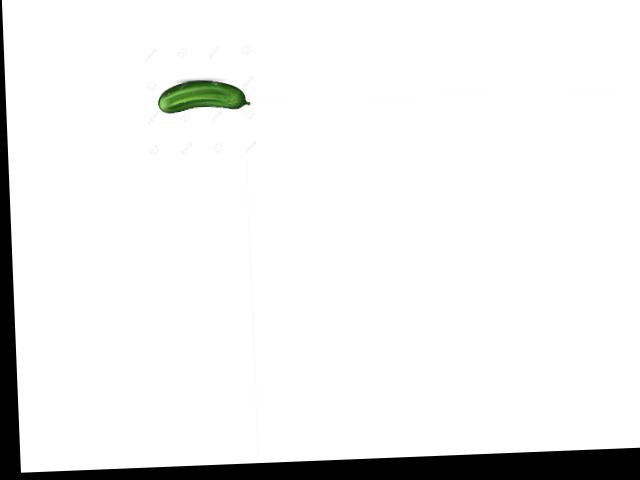cucumber: (157, 78, 250, 113)
